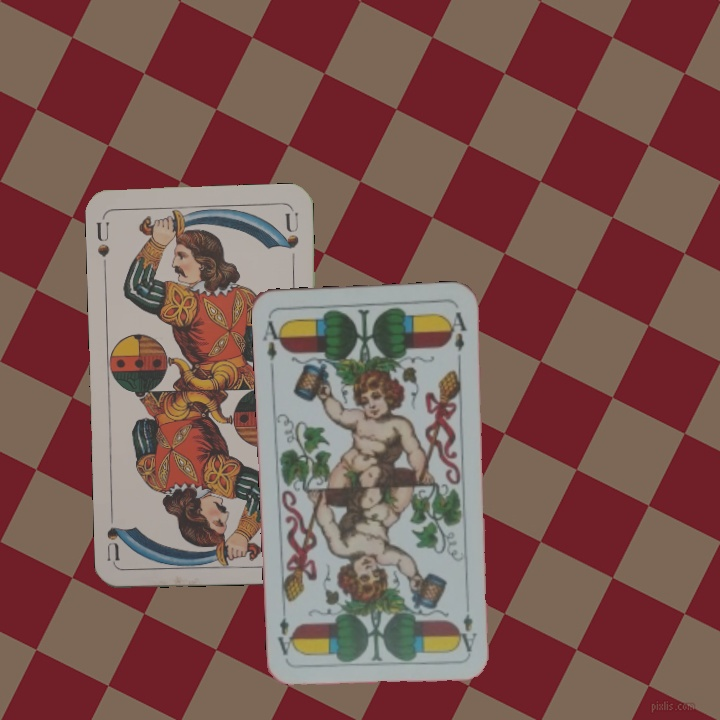EA: (259, 317, 287, 373), (458, 609, 479, 655)
SU: (92, 218, 112, 259)
